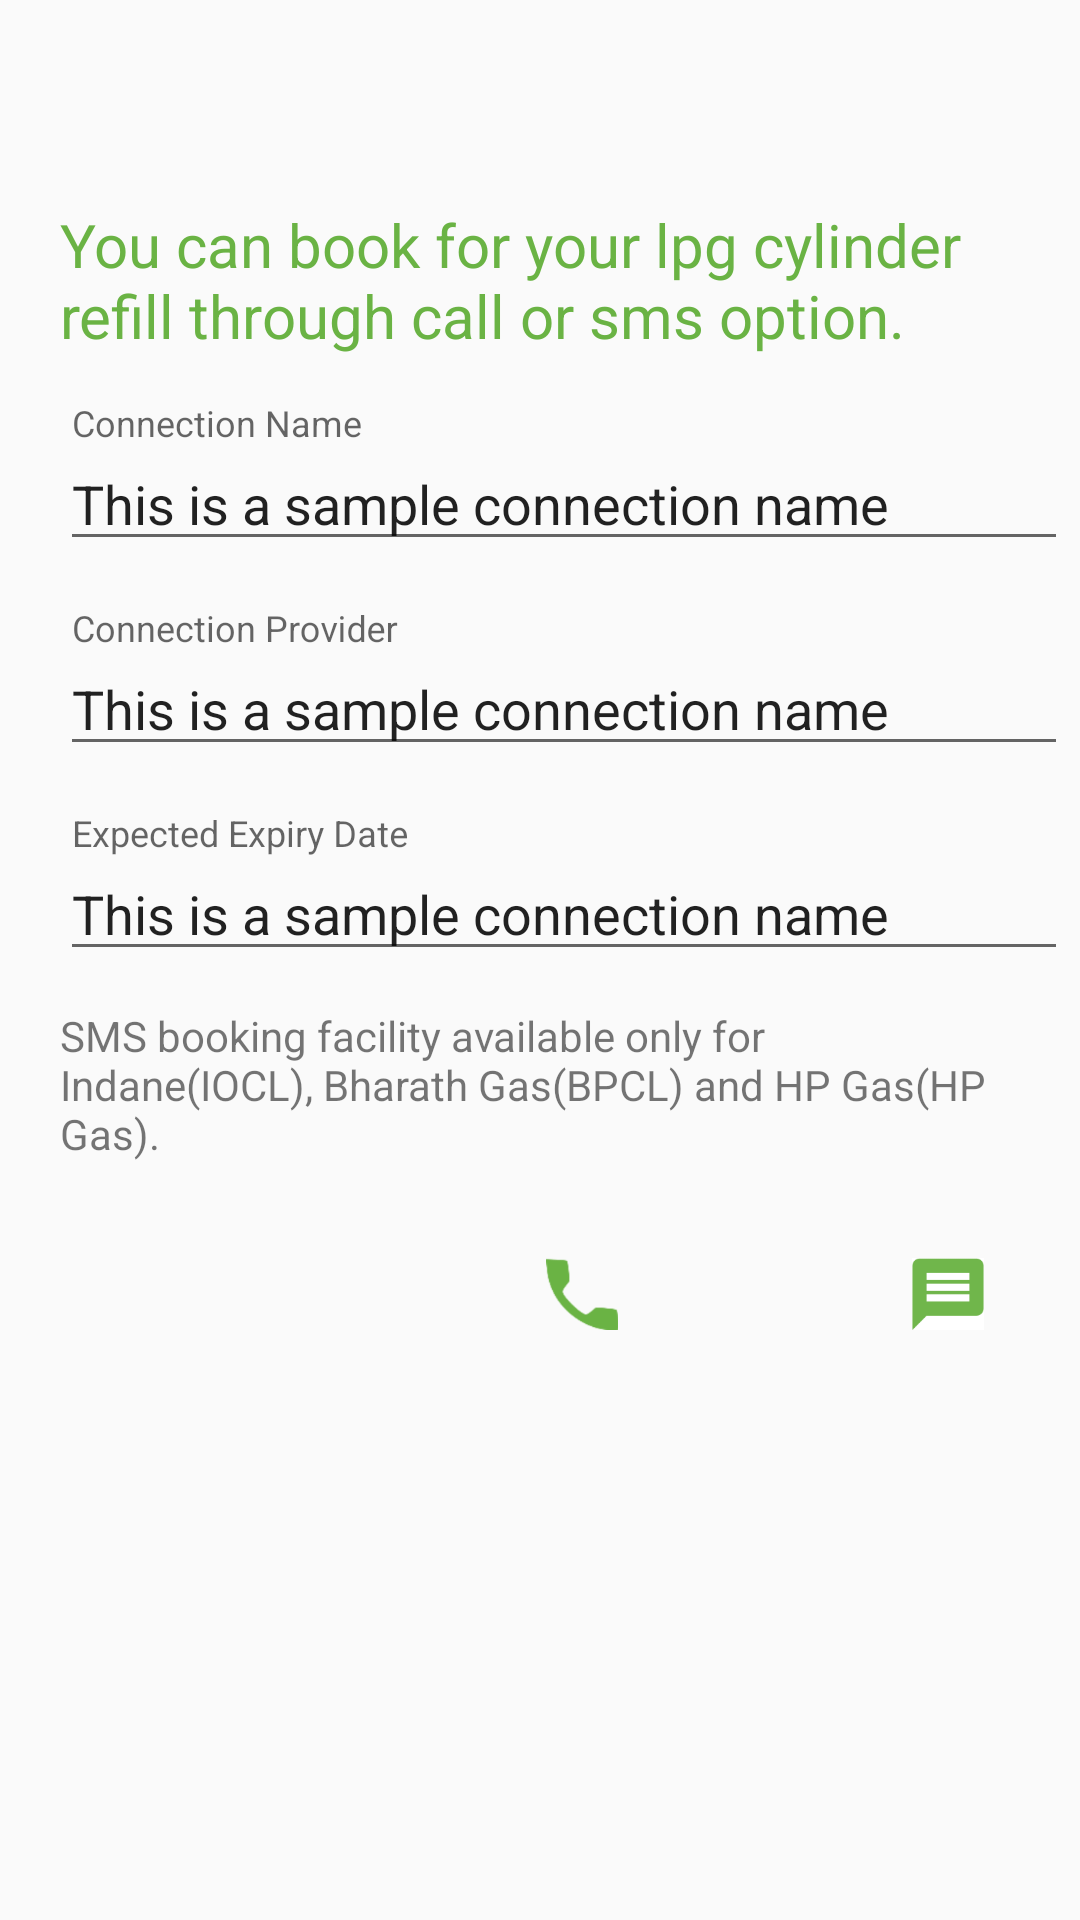

Icons on this 1080px×1920px Android screen, each with the point to tap as (x,y):
call: (582,1294)
message: (948,1294)
